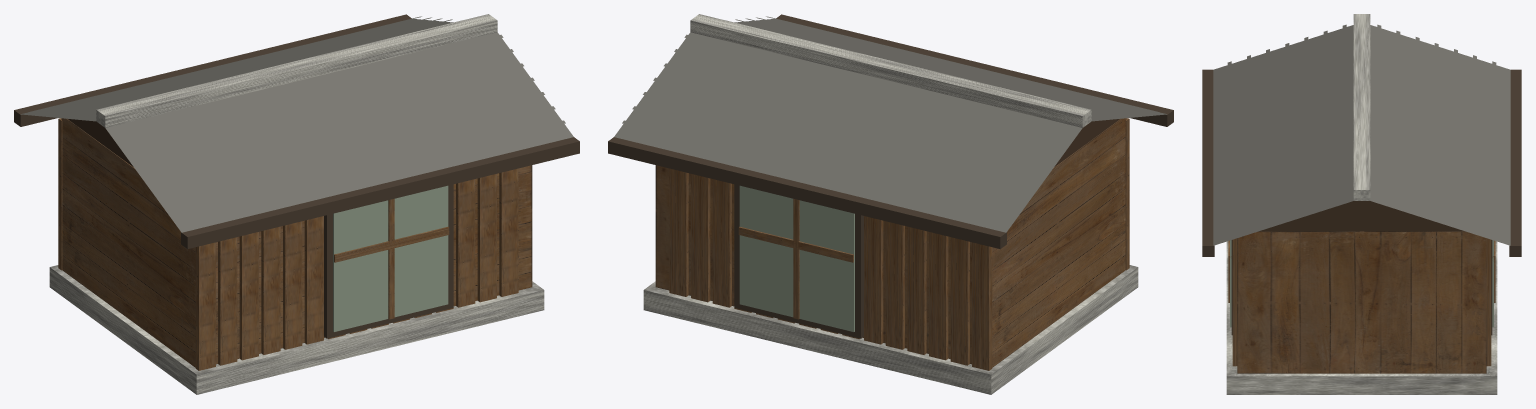
File: farm-tool-shed.obj
3 views of the same model, side by side, from view 1: azimuth 30°, elevation 25°; view 2: azimuth 150°, elevation 25°; view 3: azimuth 270°, elevation 25° (orthographic). The views are drawn at different scales.
Bounding box in the file's own units: 5.08 × 2.89 × 3.89.
Materials: 7 (5 with a texture image).
